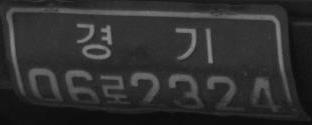0: (26, 65, 66, 103)
2: (206, 73, 246, 113), (131, 70, 166, 109)
3: (166, 71, 206, 110)
4: (246, 75, 282, 113)
6: (66, 68, 101, 107)
경기_D: (75, 21, 215, 64)
로: (102, 73, 131, 105)
